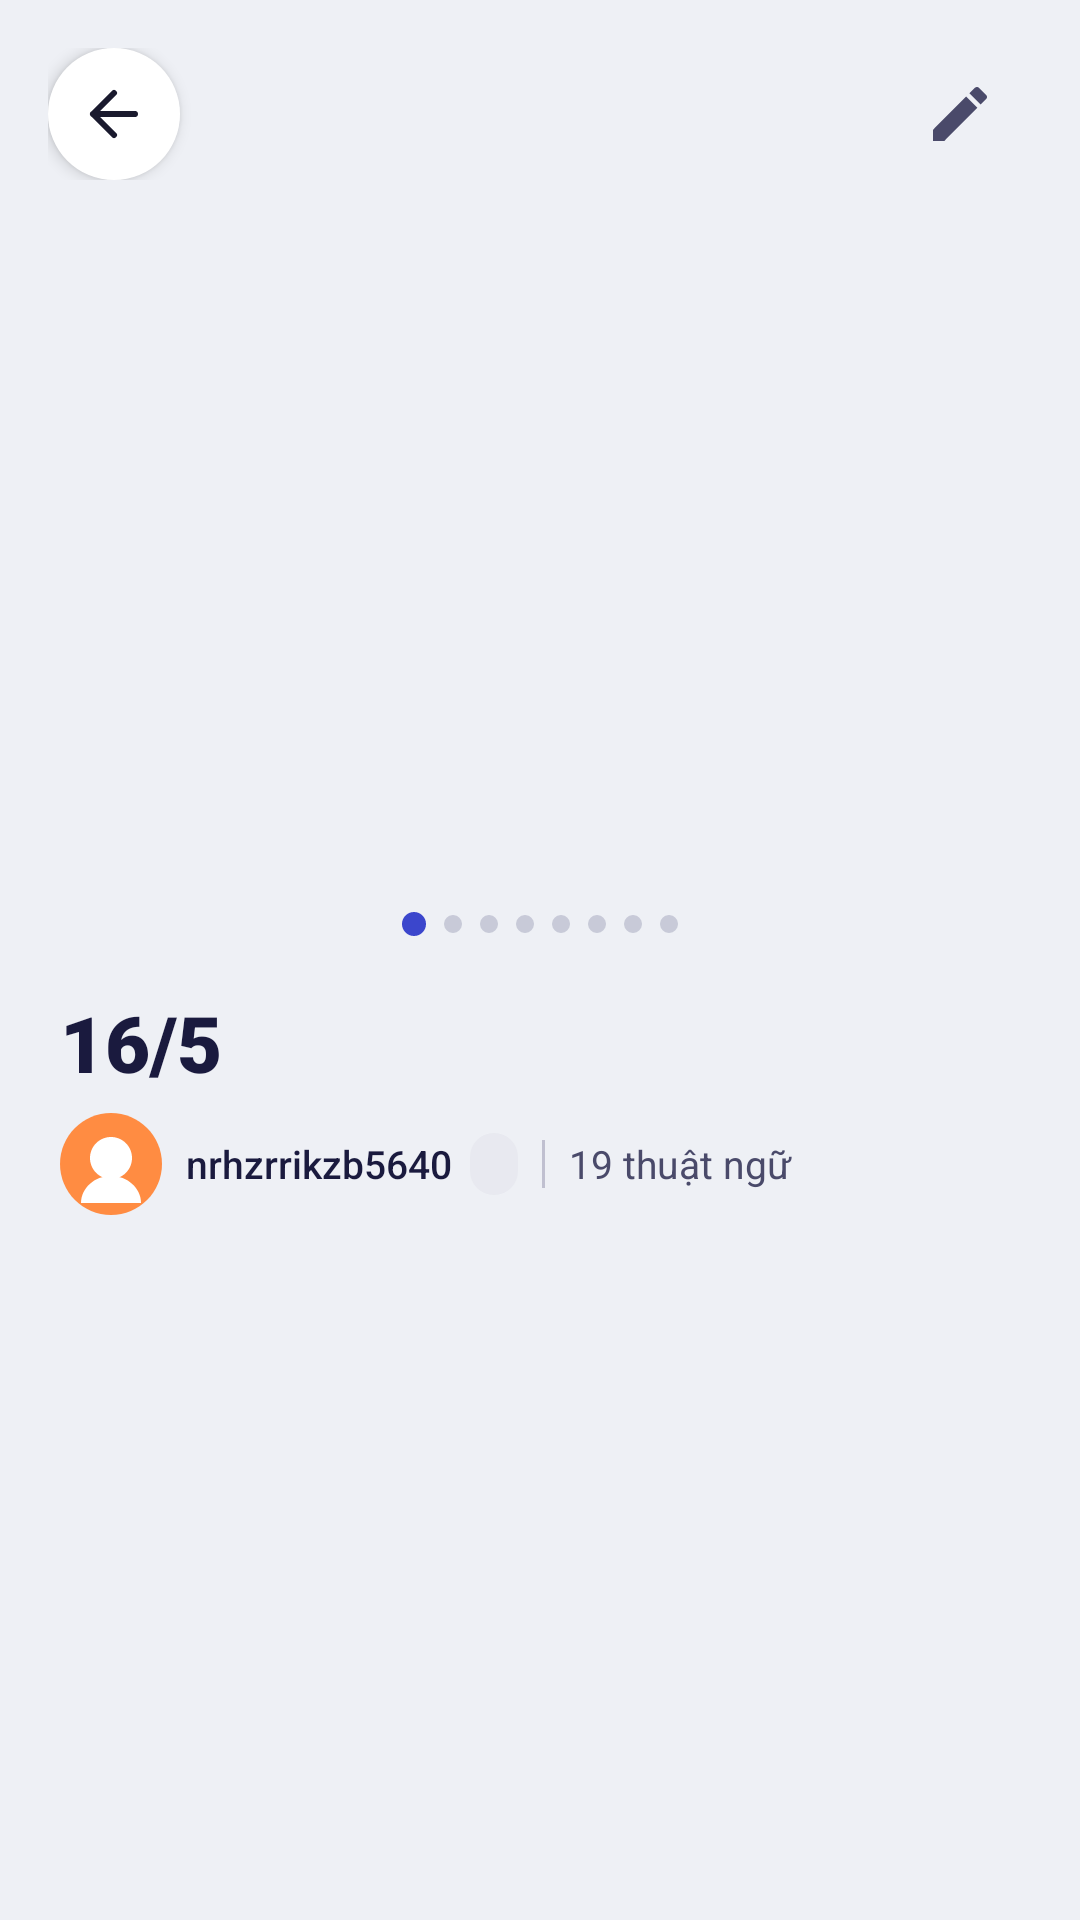

Where to tap for icons on this 1080px×1920px app screen, as (x,y):
Back: (114,114)
Edit lesson: (960,114)
